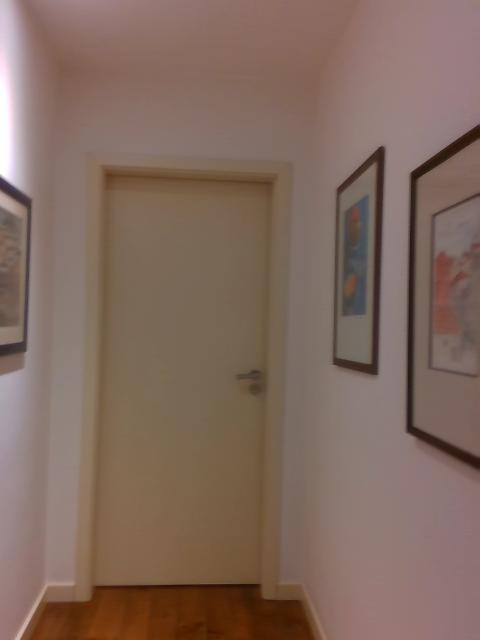door: (93, 171, 275, 586)
